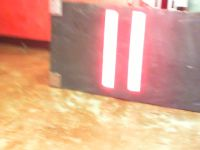switch: (127, 11, 146, 92), (101, 9, 118, 88)
